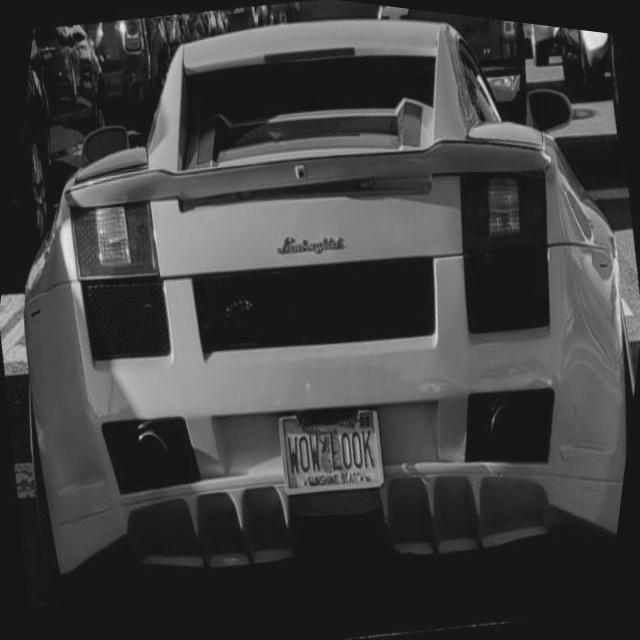LicensePlate: (276, 407, 383, 494)
